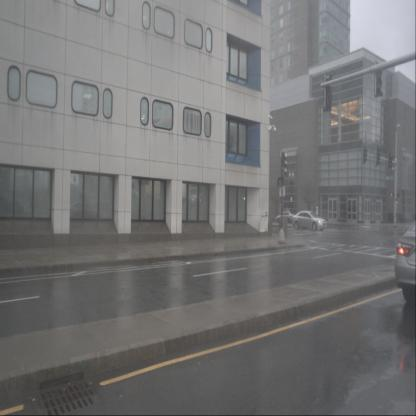vehicle-car: (394, 220, 416, 304), (292, 210, 326, 232), (276, 210, 297, 224)
